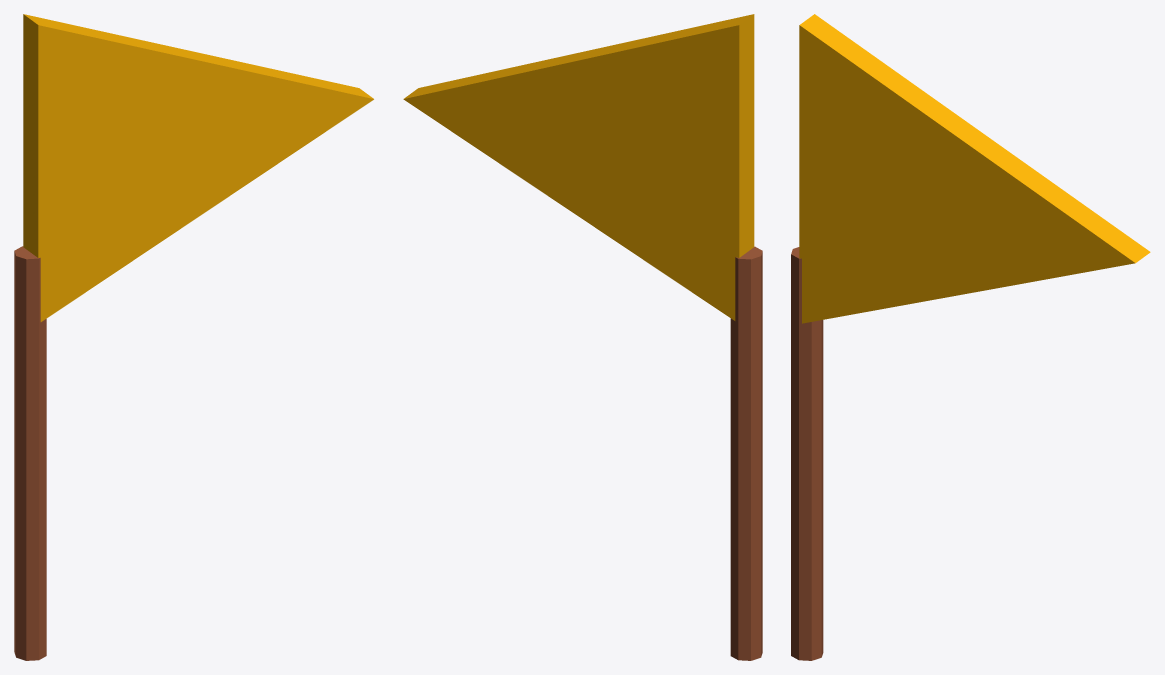
File: YellowFlag.fbx
3 views of the same model, side by side, from view 1: azimuth 30°, elevation 25°; view 2: azimuth 150°, elevation 25°; view 3: azimuth 330°, elevation 25° (orthographic).
Parts seen in each view (by area): view 1: YellowFlag; view 2: YellowFlag; view 3: YellowFlag.
Boxes of the visible parts, x1,y1,x2,y2 form: YellowFlag: [14, 14, 373, 660]; YellowFlag: [403, 14, 762, 660]; YellowFlag: [791, 14, 1150, 660].
Size of the model in its own units: 109 by 188 by 8.96.
1 material, 1 textured.
